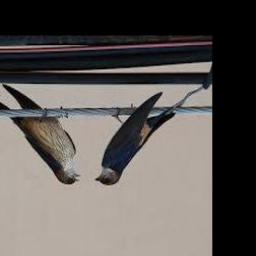Swallow: (94, 86, 203, 186), (0, 85, 80, 184)
